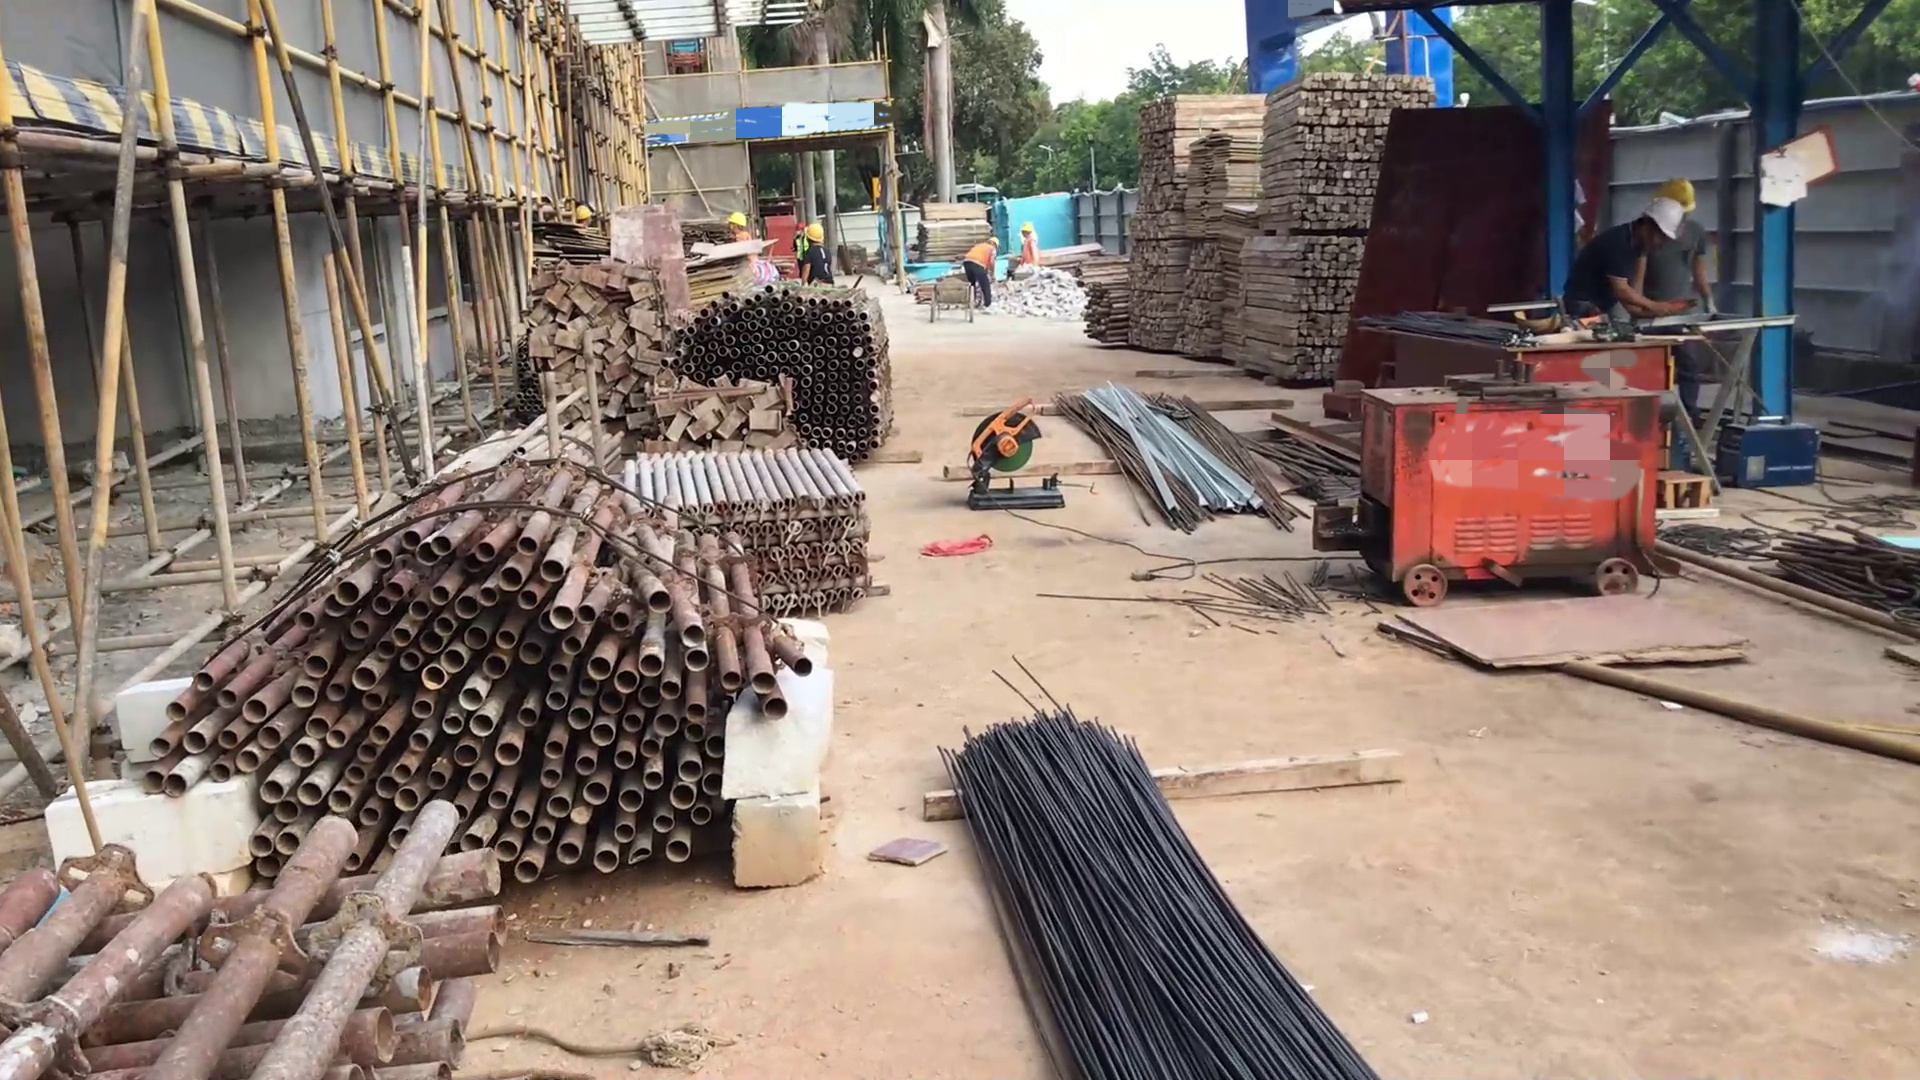cutter: (945, 385, 1068, 533)
helmet: (1634, 170, 1700, 255), (795, 212, 829, 243)
person: (1576, 189, 1680, 334), (1654, 174, 1717, 352), (966, 236, 1002, 311), (797, 220, 833, 284), (1014, 221, 1041, 273)
rebar: (910, 693, 1404, 1080)
scaffold: (153, 445, 825, 883), (1, 796, 516, 1080), (630, 445, 880, 620), (660, 279, 895, 460)
wood: (1127, 65, 1442, 392)
